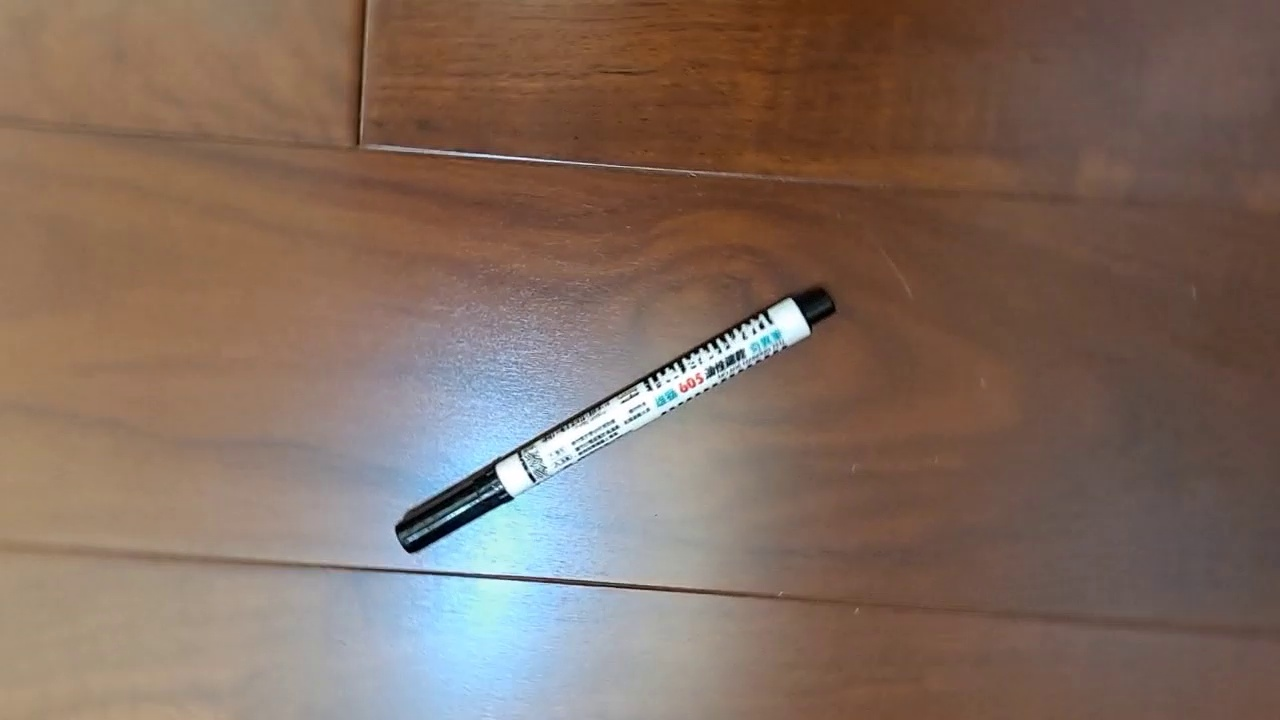pen: (394, 284, 837, 554)
